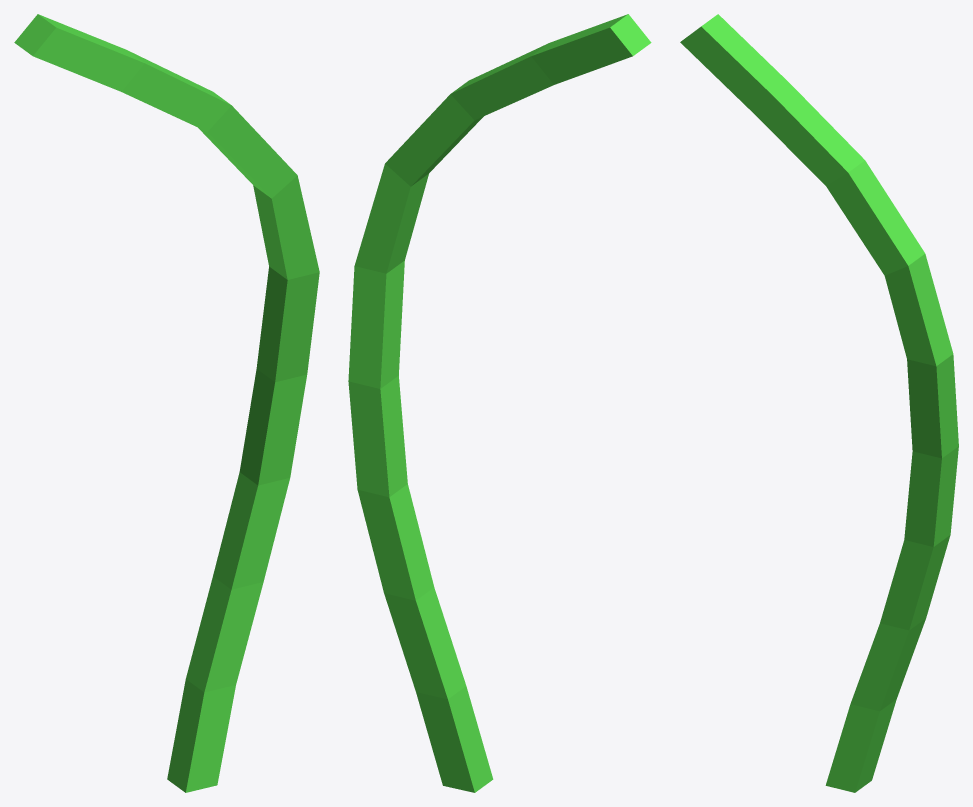
3 renders of one model, left to right at view 1: azimuth 30°, elevation 25°; view 2: azimuth 150°, elevation 25°; view 3: azimuth 330°, elevation 25°, orthographic. The views are drawn at different scales.
Parts seen in each view (by area): view 1: root01; view 2: root01; view 3: root01.
Boxes of the visible parts, x1=… form: root01: x1=14, y1=14, x2=319, y2=792; root01: x1=348, y1=14, x2=651, y2=792; root01: x1=680, y1=14, x2=958, y2=792.
Size of the model in its own units: 33.2 by 89.54 by 7.31.
